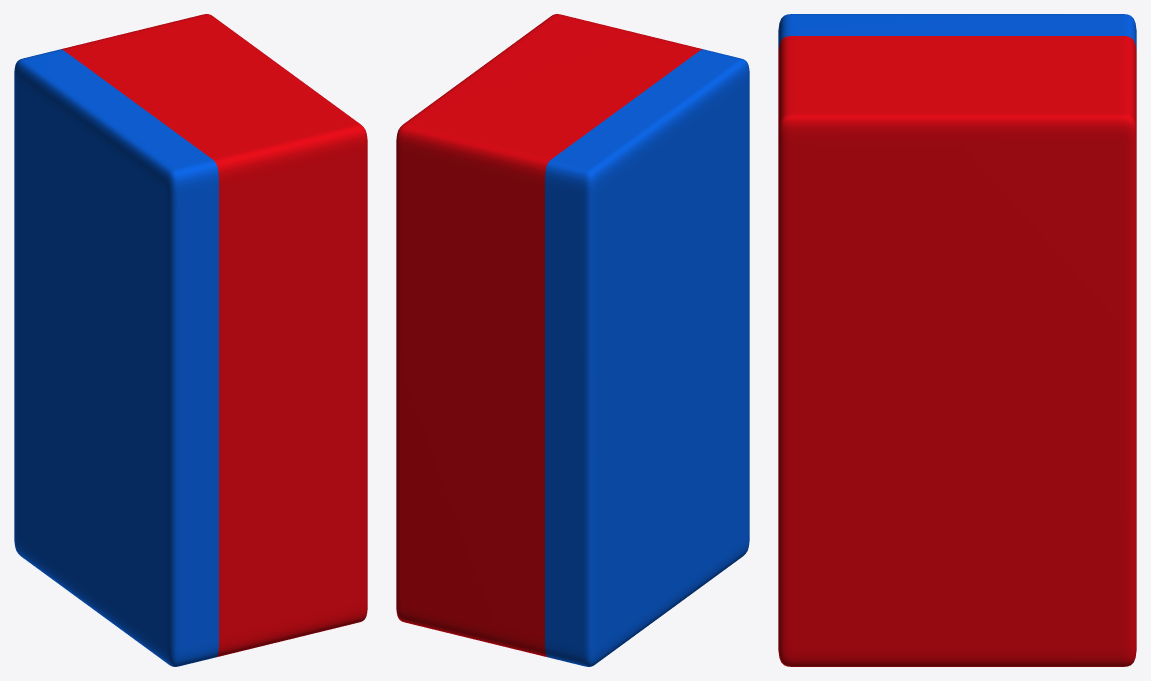
The model's file is Mahjong Tile Low-poly only 2.fbx.
The picture shows the model from 3 angles, left to right: view 1: azimuth 30°, elevation 25°; view 2: azimuth 150°, elevation 25°; view 3: azimuth 270°, elevation 25°; orthographic projection. The views are drawn at different scales.
Parts seen in each view (by area): view 1: Mahjong tile Low-Poly 2; view 2: Mahjong tile Low-Poly 2; view 3: Mahjong tile Low-Poly 2.
Boxes of the visible parts, x1,y1,x2,y2 form: Mahjong tile Low-Poly 2: (14,14,367,666); Mahjong tile Low-Poly 2: (396,14,749,666); Mahjong tile Low-Poly 2: (778,14,1136,666).
Size of the model in its own units: 98.43 by 236 by 139.
